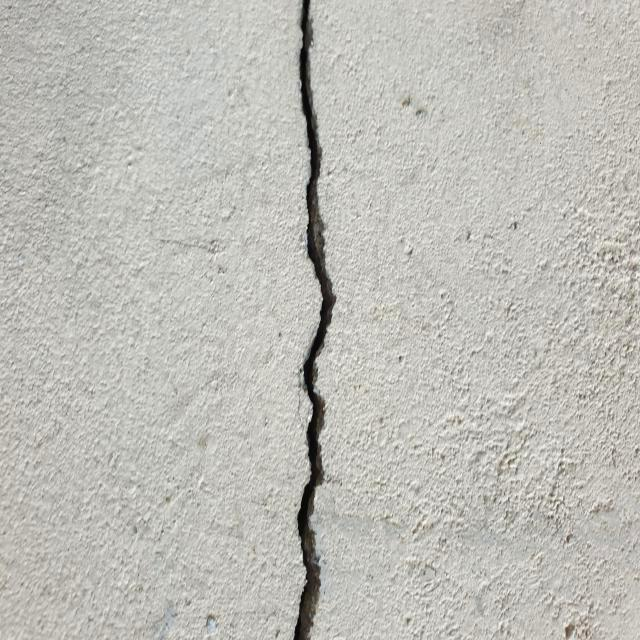SurfaceCrack: (234, 1, 385, 640)
